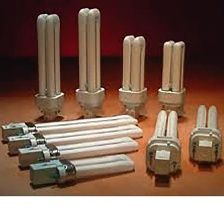light_bulb: (33, 152, 139, 190), (26, 134, 139, 169), (22, 121, 144, 153), (73, 4, 107, 116), (32, 11, 66, 116), (140, 108, 187, 183), (7, 111, 140, 137), (114, 29, 151, 119), (153, 37, 192, 117), (187, 99, 224, 166)
